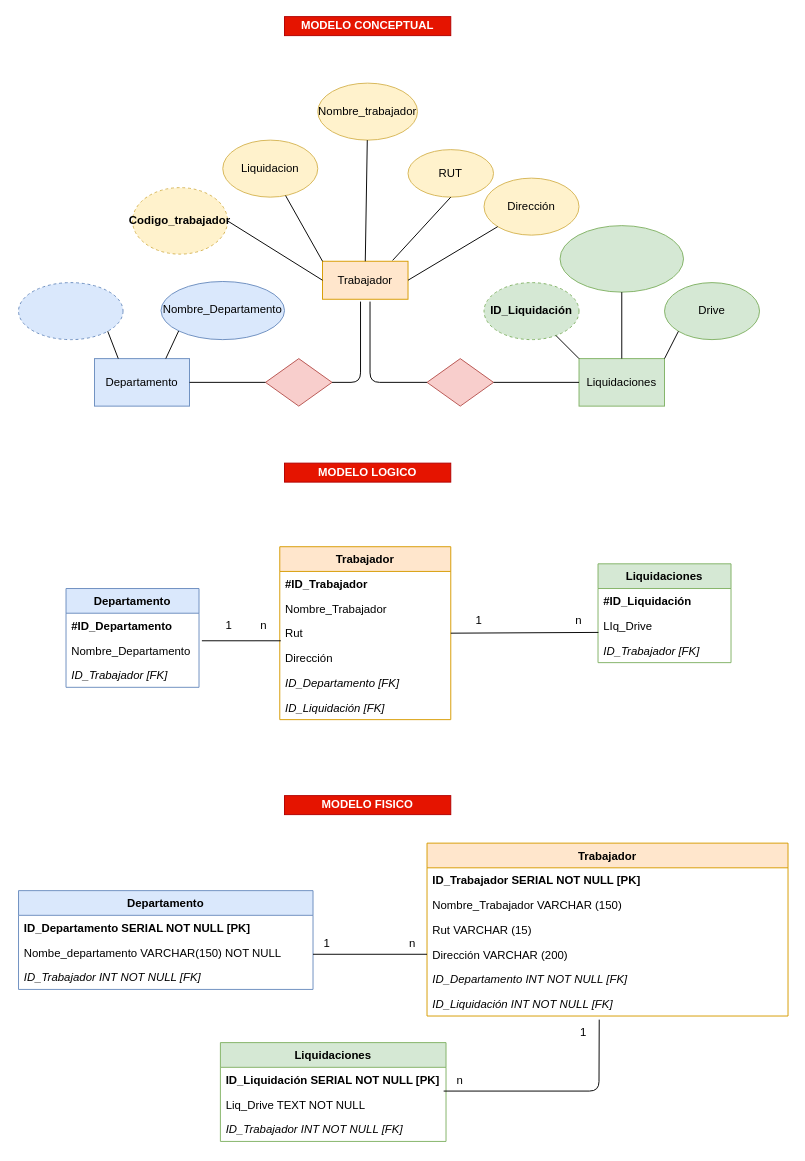
This 805x1161 diagram has some shape labels left out. Here are the shapes that lost their labels. From the top down, the centre of each, then its label:
point 621,258: Liq_Trabajador
point 70,311: Num_Departamento
point 298,382: pertenece
point 460,382: posee
